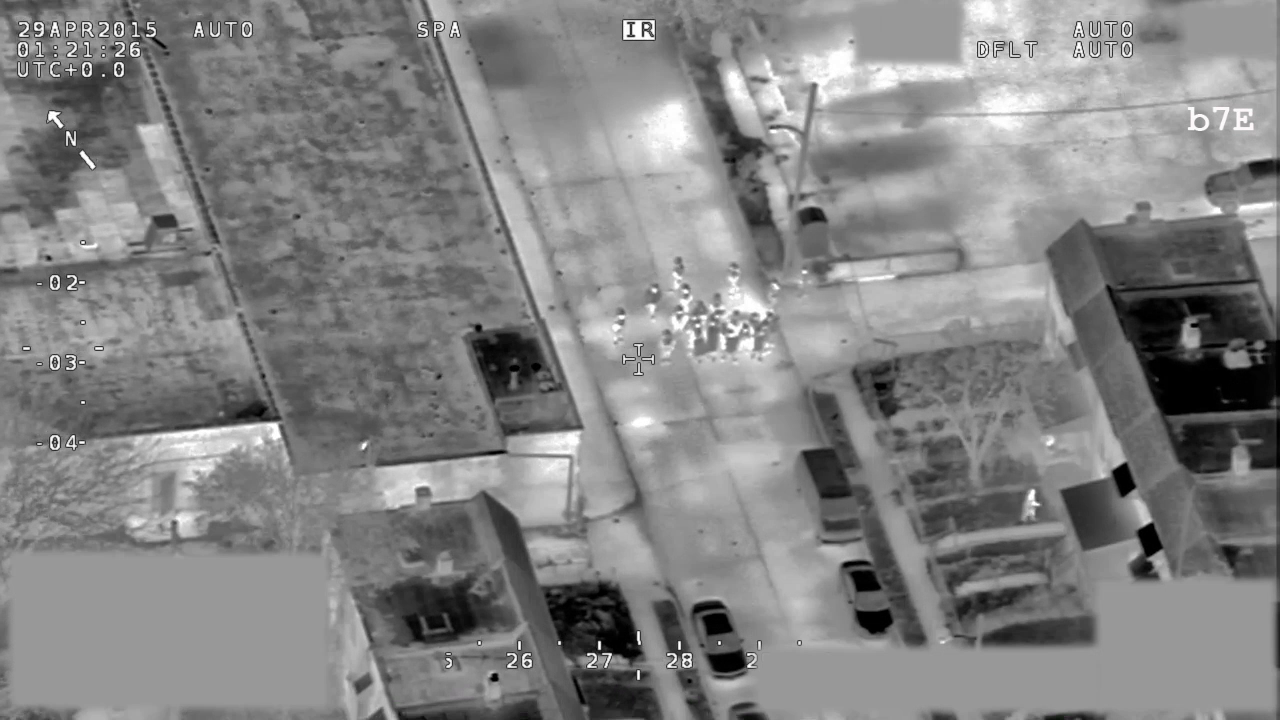vehicle: (792, 444, 868, 550), (688, 591, 755, 685), (837, 555, 898, 642)
